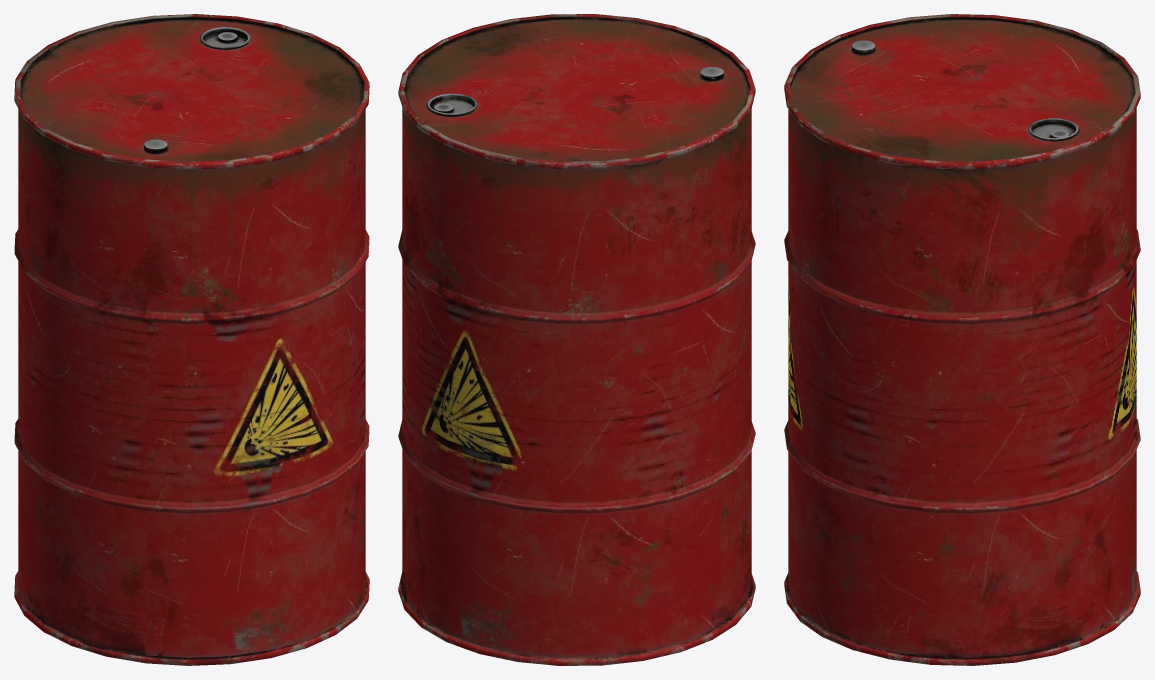
Rendered from Barrel_01_1k.high.glb.
3 views of the same model, side by side, from view 1: azimuth 30°, elevation 25°; view 2: azimuth 150°, elevation 25°; view 3: azimuth 270°, elevation 25° (orthographic).
Parts seen in each view (by area): view 1: Barrel_01; view 2: Barrel_01; view 3: Barrel_01.
Boxes of the visible parts, x1,y1,x2,y2 form: Barrel_01: (14,14,369,665); Barrel_01: (398,14,755,665); Barrel_01: (784,14,1140,665).
Bounding box in the file's own units: 0.5631 × 0.88 × 0.5631.
Materials: 1 (1 with a texture image).
